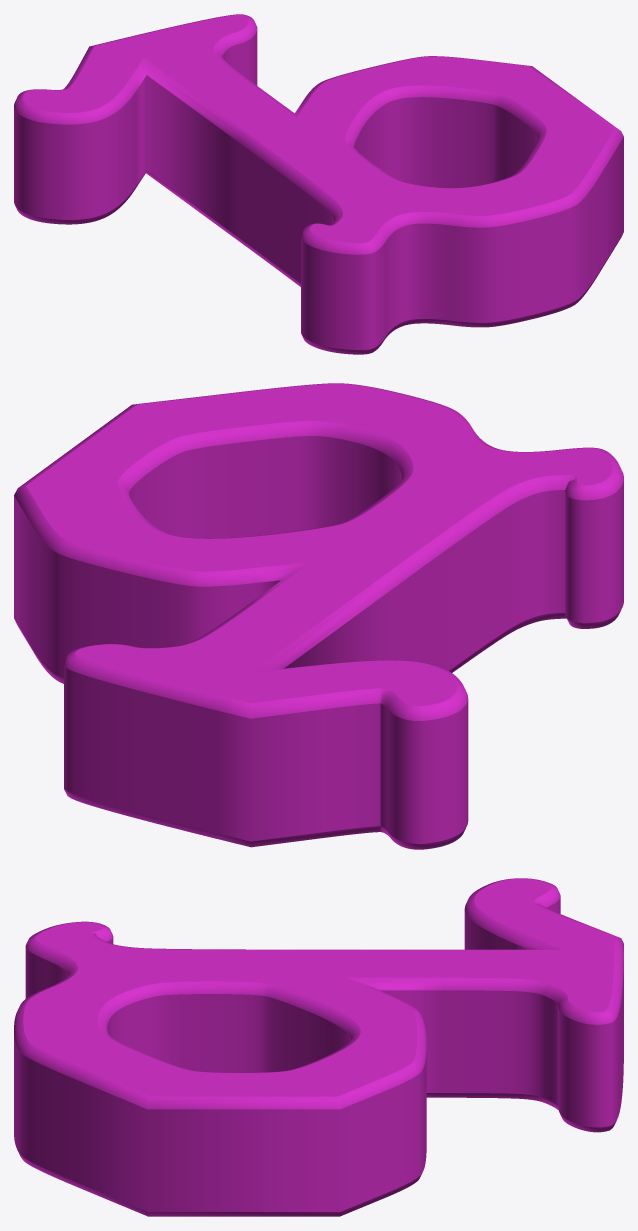
Rendered from Letter_q_Small.fbx.
3 views of the same model, one above another, from view 1: azimuth 30°, elevation 25°; view 2: azimuth 150°, elevation 25°; view 3: azimuth 270°, elevation 25° (orthographic). The views are drawn at different scales.
Parts seen in each view (by area): view 1: Letter_q; view 2: Letter_q; view 3: Letter_q.
Part boxes in pixels (x1,y1,x2,y2): Letter_q: [14, 14, 623, 354]; Letter_q: [14, 383, 623, 849]; Letter_q: [14, 878, 623, 1216].
Size of the model in its own units: 0.5673 by 0.14 by 0.6467.
